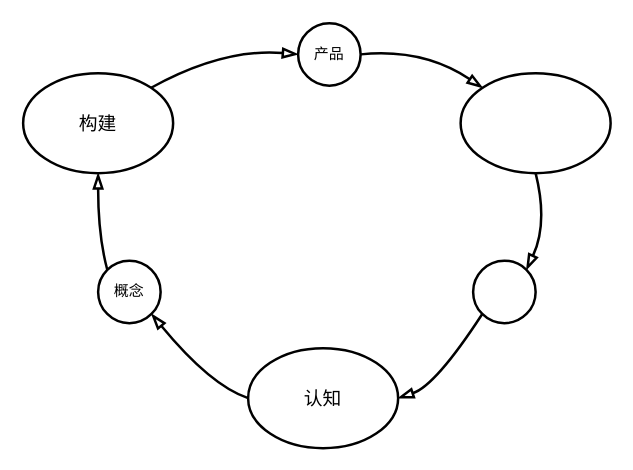
The diagram is 633 pixels wide and 470 high, and some of its shapes have lost their labels. The centre of each missing label's shape, as x and y in pixels:
体验: (x=503, y=291)
测量: (x=535, y=122)
